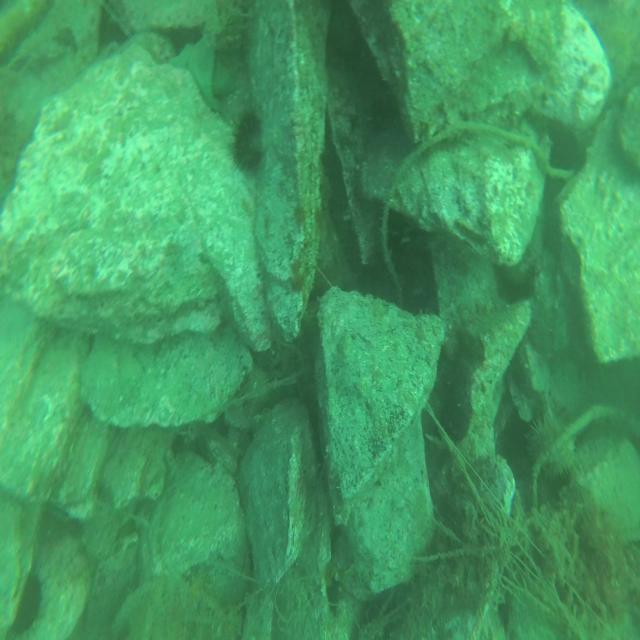echinus: (524, 407, 578, 483), (225, 106, 269, 182), (238, 364, 271, 426)
